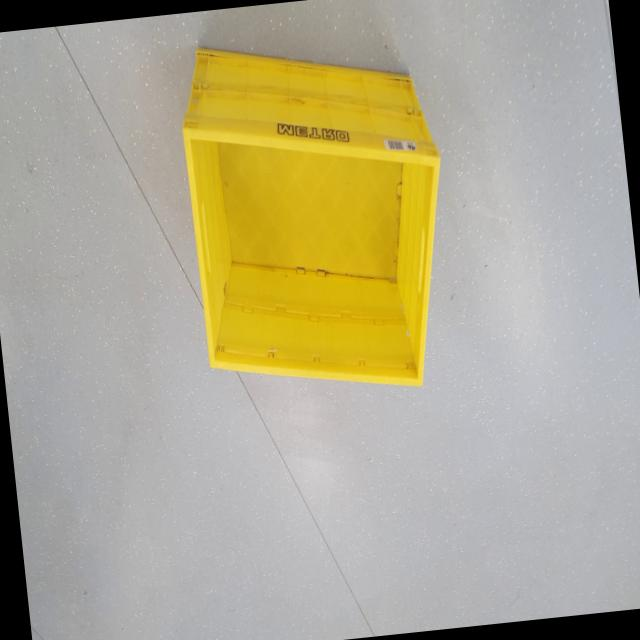box: (156, 19, 467, 418)
